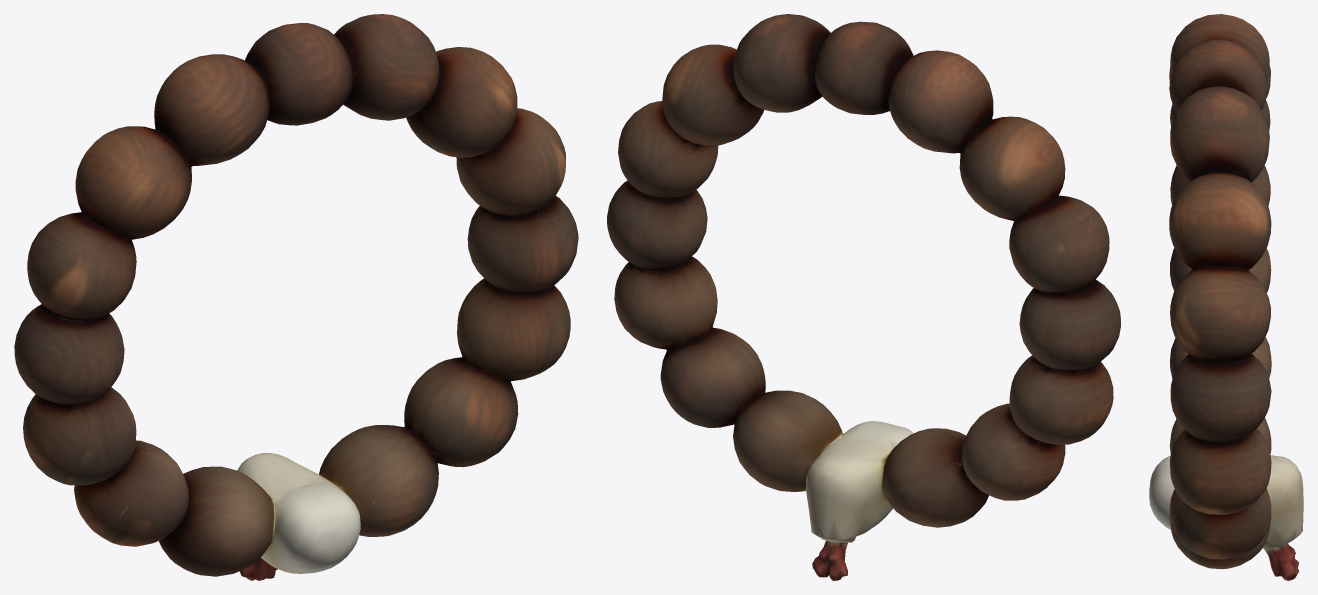
3 renders of one model, left to right at view 1: azimuth 30°, elevation 25°; view 2: azimuth 150°, elevation 25°; view 3: azimuth 270°, elevation 25°, orthographic. The views are drawn at different scales.
Visible parts, largest first — view 1: prayer-beads; view 2: prayer-beads; view 3: prayer-beads.
Part boxes in pixels (x1,y1,x2,y2): prayer-beads: [14, 14, 578, 580]; prayer-beads: [607, 14, 1120, 580]; prayer-beads: [1149, 14, 1303, 580].
Bounding box in the file's own units: 0.2503 × 0.252 × 0.0664.
1 material, 1 textured.
